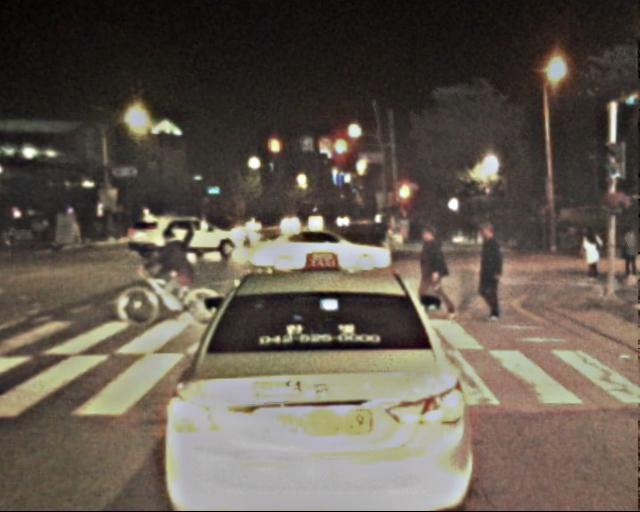person: (467, 222, 508, 323), (414, 229, 452, 321), (156, 223, 192, 312), (579, 228, 605, 292), (617, 223, 640, 283)
